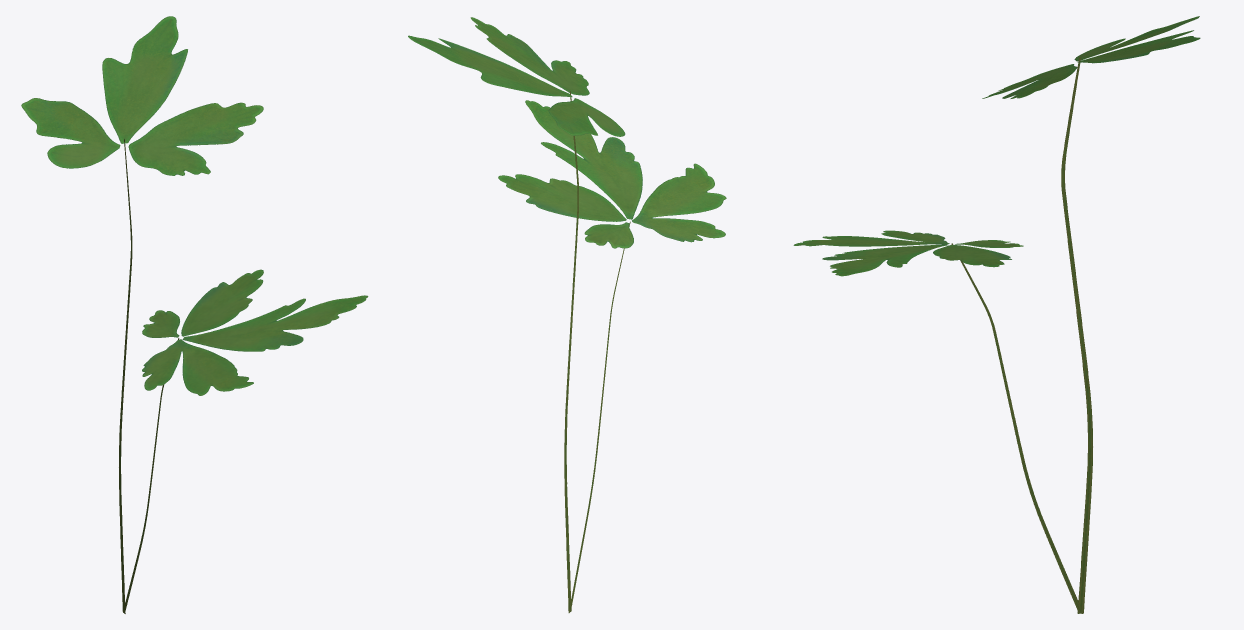
The model's file is SM_Plant_07.fbx.
The picture shows the model from 3 angles, left to right: view 1: azimuth 30°, elevation 25°; view 2: azimuth 150°, elevation 25°; view 3: azimuth 270°, elevation 25°; orthographic projection. The views are drawn at different scales.
Parts seen in each view (by area): view 1: SM_Plant_07_LOD0; view 2: SM_Plant_07_LOD0; view 3: SM_Plant_07_LOD0.
Part boxes in pixels (x1,y1,x2,y2): SM_Plant_07_LOD0: (21,16,368,613); SM_Plant_07_LOD0: (408,17,726,612); SM_Plant_07_LOD0: (793,16,1200,613).
Size of the model in its own units: 15.15 by 21.75 by 34.26.
